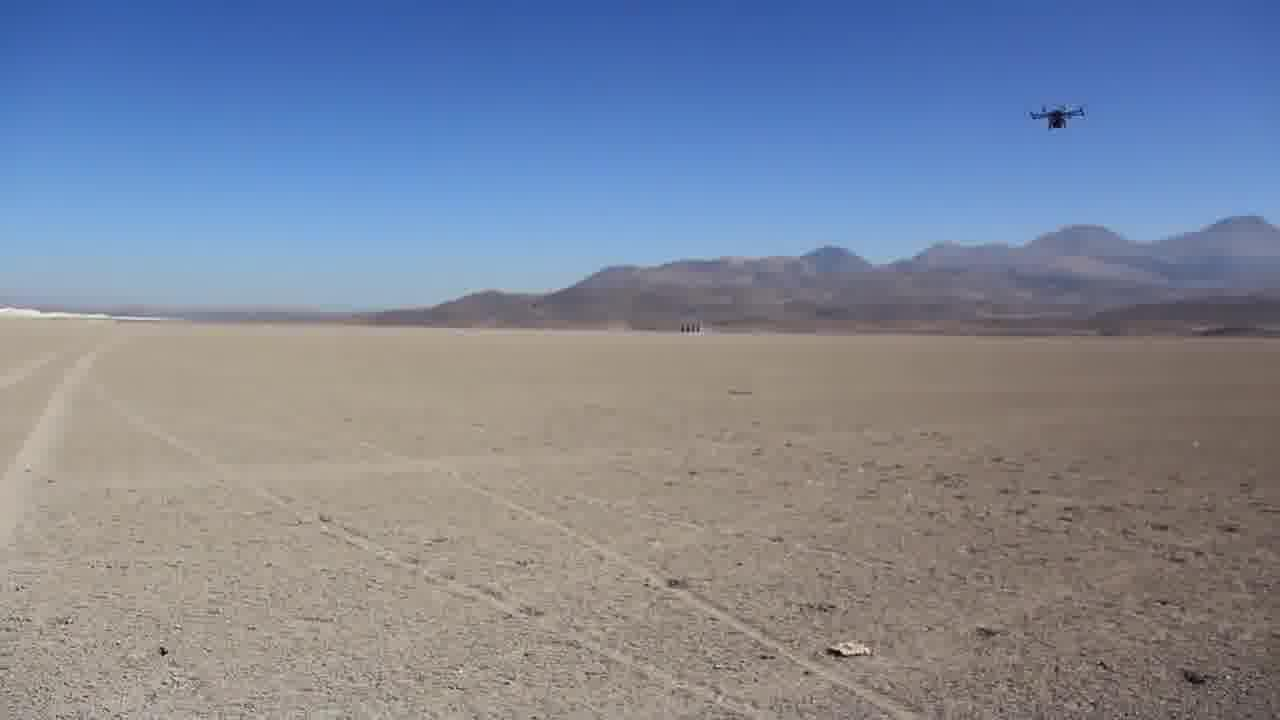Drone: (1020, 92, 1097, 136)
